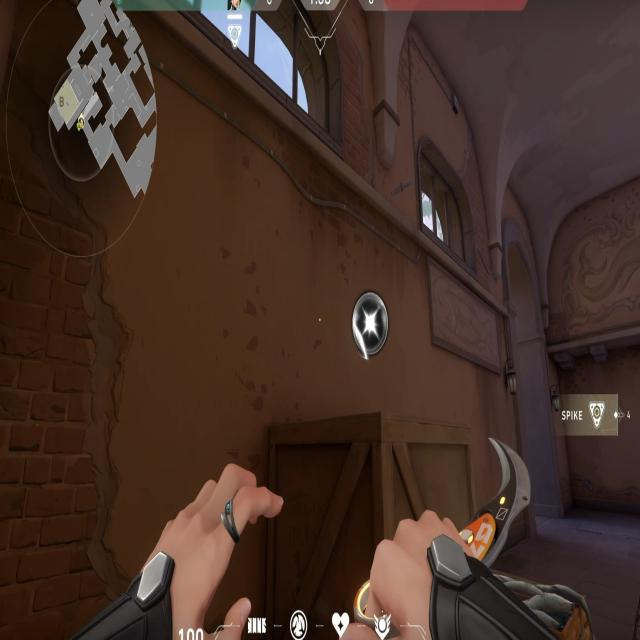B_Main_Wallbang: (227, 271, 574, 640)
Throwables: (137, 0, 360, 151), (408, 128, 484, 281)
